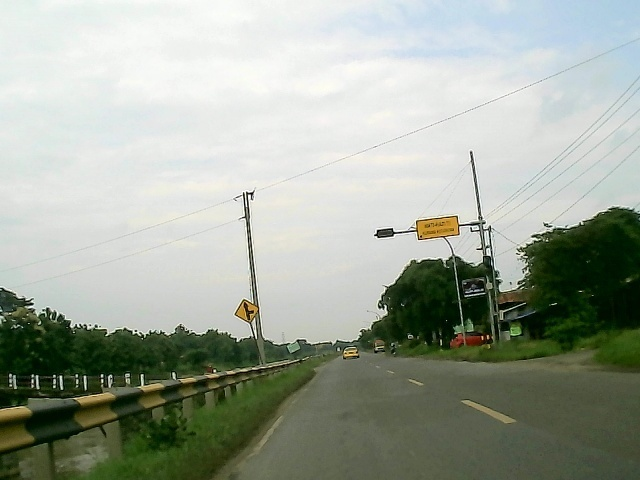Simpang kanan dengan prioritas: (232, 298, 260, 324)
